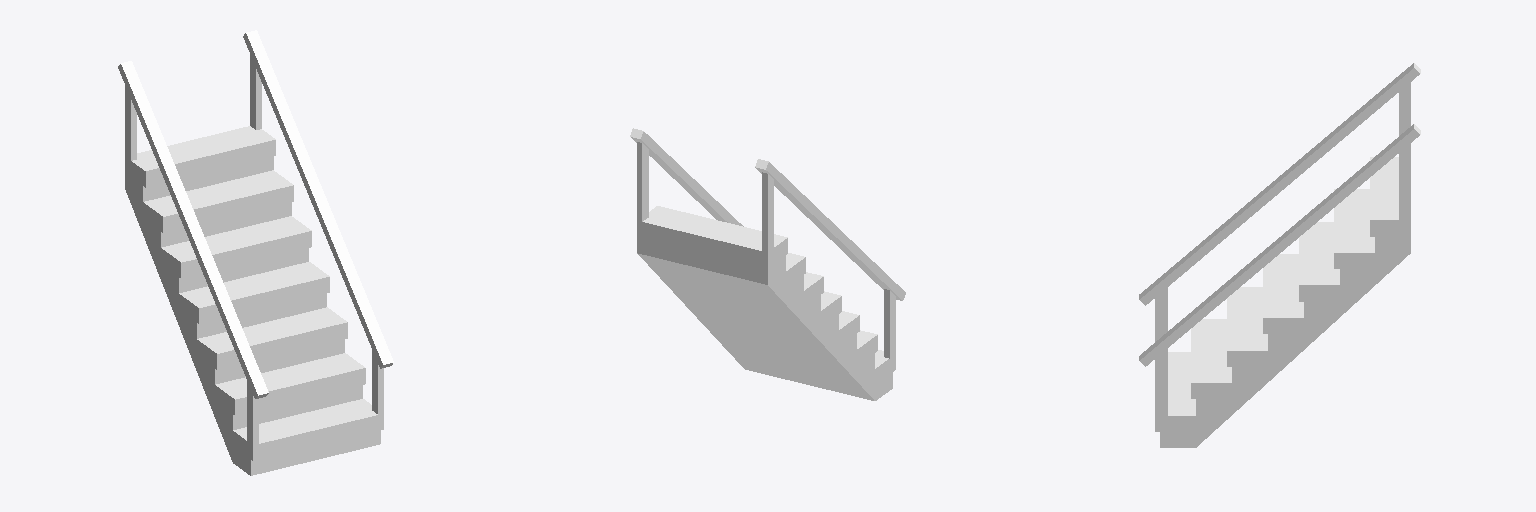
The model's file is stairs.obj.
The picture shows the model from 3 angles: view 1: azimuth 30°, elevation 25°; view 2: azimuth 150°, elevation 25°; view 3: azimuth 270°, elevation 25°; orthographic projection.
Visible parts, largest first — view 1: mergedBlocks; view 2: mergedBlocks; view 3: mergedBlocks.
Part boxes in pixels (x1,y1,x2,y2): mergedBlocks: (118,30,393,475); mergedBlocks: (630,128,905,400); mergedBlocks: (1139,63,1420,447).
Bounding box in the file's own units: 0.625 × 1.41 × 1.12.